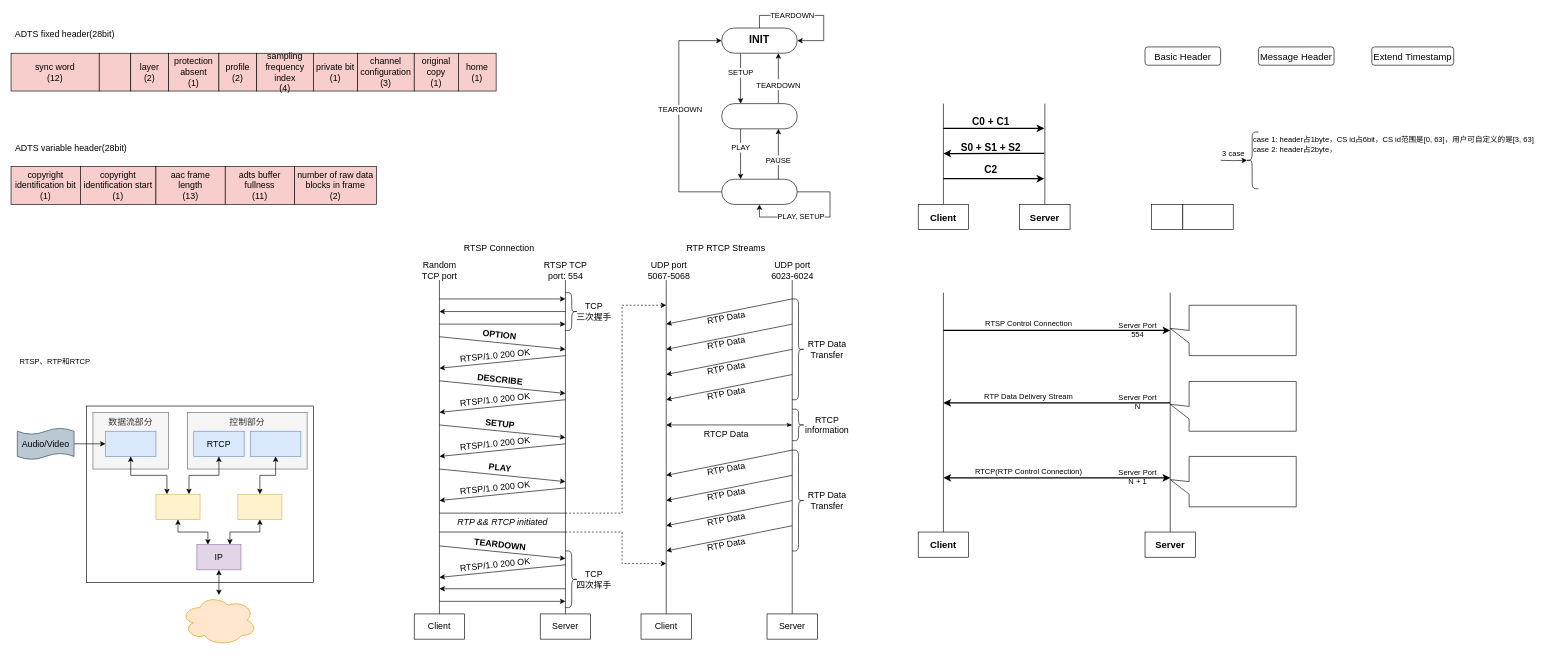
Image size: 1553x656. Some labels were removed from this diagram. Each missing label, with the centre of its shape:
"CS id" goes at pixel 1207 217.
"fmt (2 bit)" goes at pixel 1167 217.
"ID (1)" goes at pixel 115 72.
"Internet" goes at pixel 218 619.
"PlAYING" goes at pixel 759 191.
"READY" goes at pixel 759 116.
"RTP" goes at pixel 130 443.
"RTSP" goes at pixel 275 443.
"TCP" goes at pixel 259 506.
"UDP" goes at pixel 177 506.
"基于UDP的RTCP双向流将有关RTP流质量的信息传回服务器。RTCP端口号始终是服务器上的RTP数据端口加1。" goes at pixel 1233 481.
"基于UDP的RTP流用于承载编码的音频和视频数据，且服务器端口始终为偶数。" goes at pixel 1233 406.
"服务器端口默认为554，基于TCP的RTSP连接用于传达控制信息，并可能交错音频和视频数据。" goes at pixel 1233 330.
